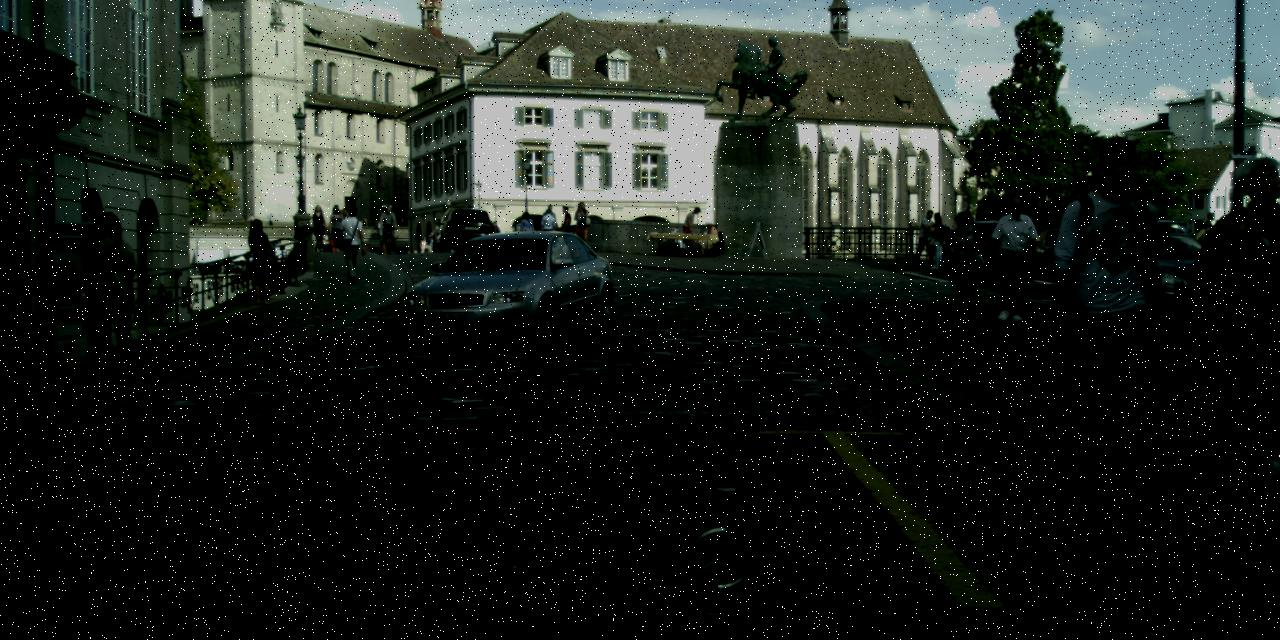ped: (1042, 136, 1180, 473), (1192, 154, 1279, 460), (79, 211, 144, 371), (986, 197, 1037, 321), (942, 211, 986, 321), (241, 218, 276, 303), (337, 204, 367, 280), (915, 208, 939, 268), (926, 211, 949, 269), (556, 204, 576, 254), (571, 202, 591, 252), (683, 206, 703, 255), (1197, 212, 1217, 261), (326, 204, 346, 252), (308, 204, 328, 249), (540, 204, 558, 248), (540, 208, 557, 251), (379, 204, 396, 247), (336, 208, 352, 251), (518, 212, 534, 252), (378, 216, 390, 247), (489, 221, 500, 248), (248, 213, 255, 230), (268, 212, 274, 230), (190, 216, 200, 226), (362, 217, 368, 233), (370, 221, 374, 231)
